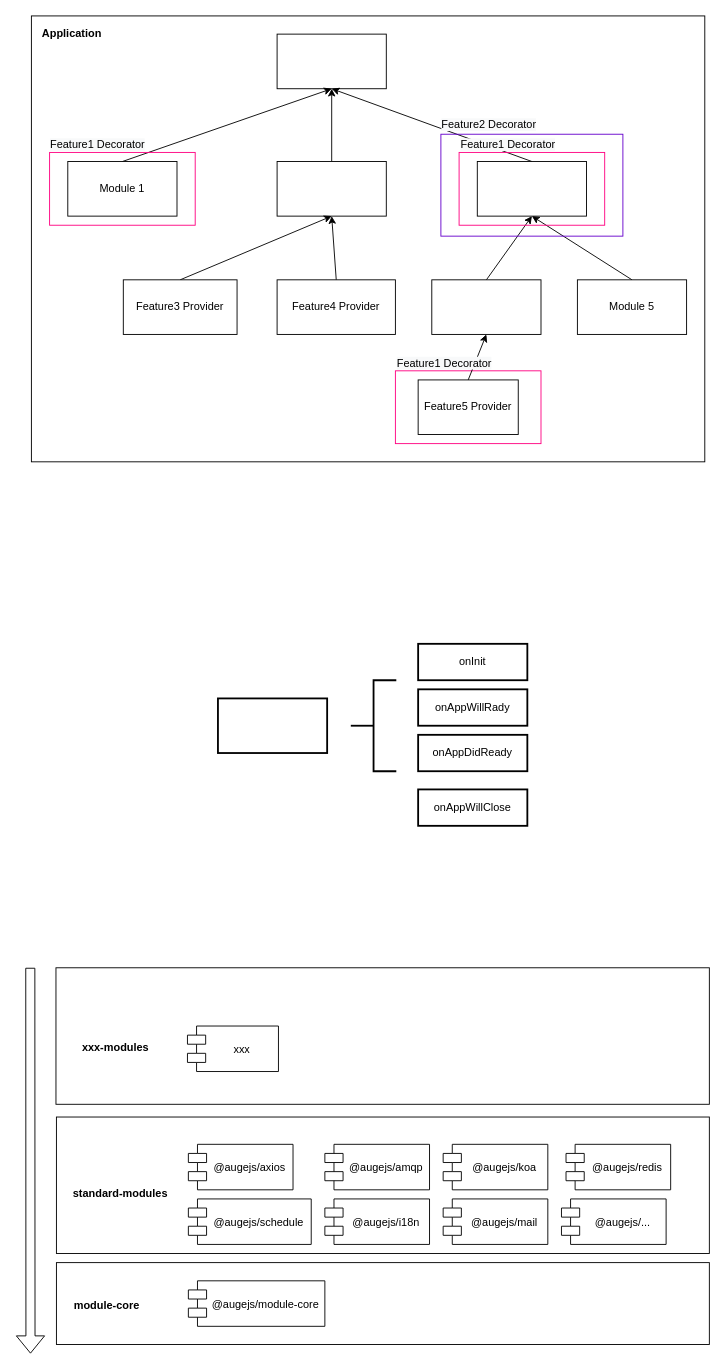
Image size: 725x1370. Some labels were removed from this diagram. Each missing label, with the box of its shape:
App Module: (276, 33, 386, 89)
Module 2: (276, 161, 386, 216)
Module 3: (476, 161, 586, 216)
Module 4: (431, 279, 541, 334)
Provider | Module: (217, 697, 328, 753)
